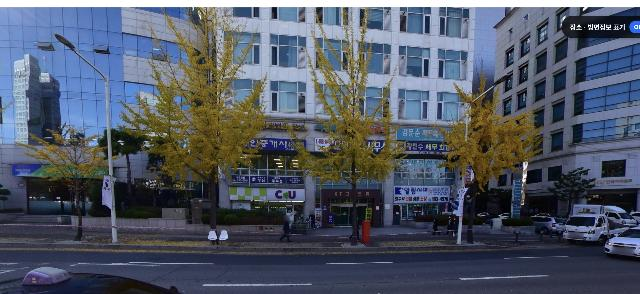ginkgo: (116, 7, 305, 243), (301, 7, 410, 246), (440, 68, 545, 244), (15, 120, 108, 242)
other: (543, 166, 597, 220)
